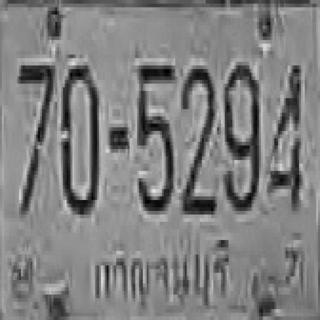N00: (60, 62, 98, 211)
N02: (180, 62, 214, 211)
N04: (268, 62, 302, 211)
N05: (136, 60, 172, 209)
N07: (17, 62, 53, 211)
N09: (223, 60, 259, 209)
P17: (90, 243, 232, 307)
